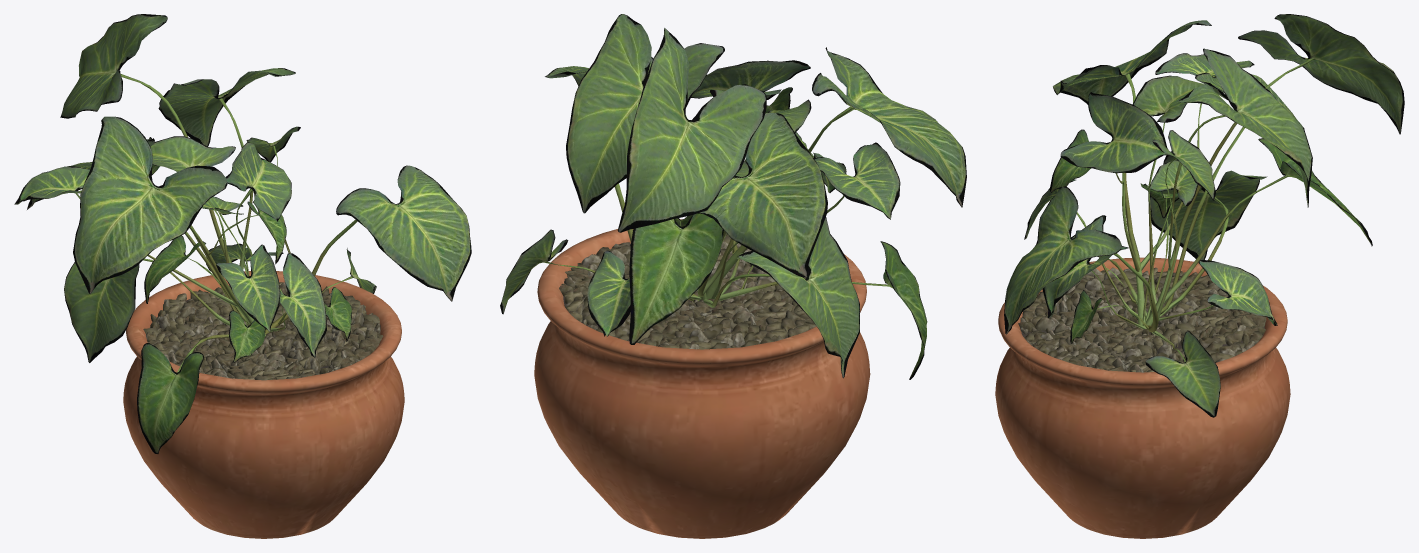
Rendered from potted_plant_02.glb.
3 views of the same model, side by side, from view 1: azimuth 30°, elevation 25°; view 2: azimuth 150°, elevation 25°; view 3: azimuth 270°, elevation 25° (orthographic). The views are drawn at different scales.
Visible parts, largest first — view 1: potted_plant_02_leaves, potted_plant_02_pot; view 2: potted_plant_02_leaves, potted_plant_02_pot; view 3: potted_plant_02_pot, potted_plant_02_leaves.
Part boxes in pixels (<box>): potted_plant_02_leaves: <box>14,14,471,453</box>; potted_plant_02_pot: <box>123,271,404,538</box>; potted_plant_02_leaves: <box>500,14,966,379</box>; potted_plant_02_pot: <box>534,219,870,538</box>; potted_plant_02_pot: <box>995,257,1290,538</box>; potted_plant_02_leaves: <box>1004,14,1404,417</box>.
Size of the model in its own units: 0.7009 by 0.8412 by 0.6574.
Materials: 2 (2 with a texture image).
